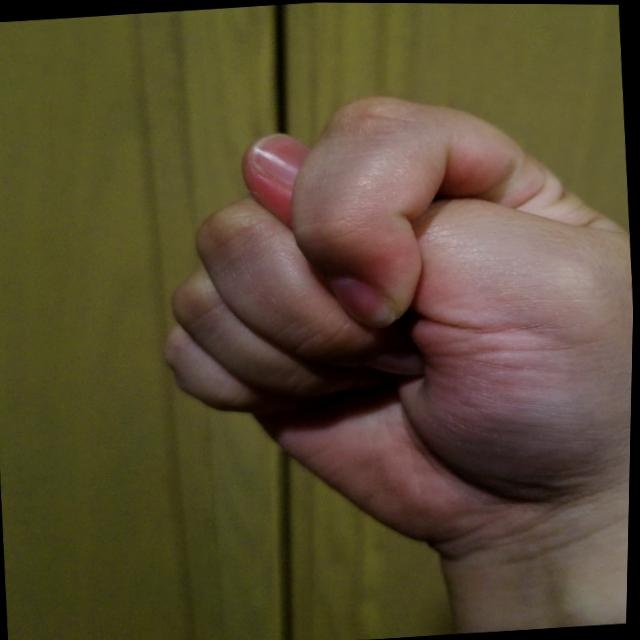T: (127, 65, 638, 581)
